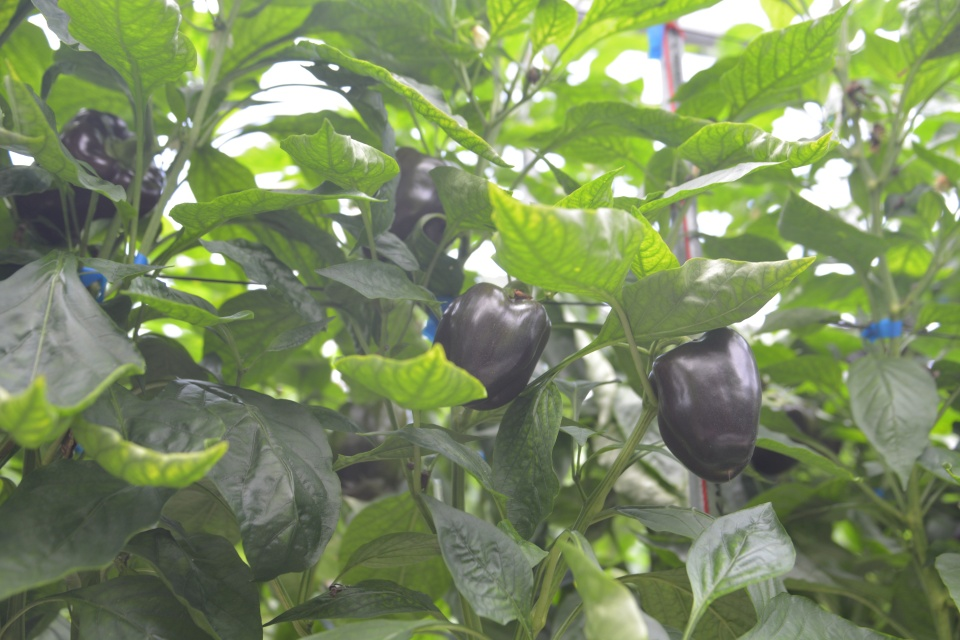fruit: (13, 111, 168, 250), (645, 324, 765, 485), (428, 283, 553, 412), (361, 143, 463, 281), (746, 398, 816, 479)
pedicle: (106, 134, 137, 164)
